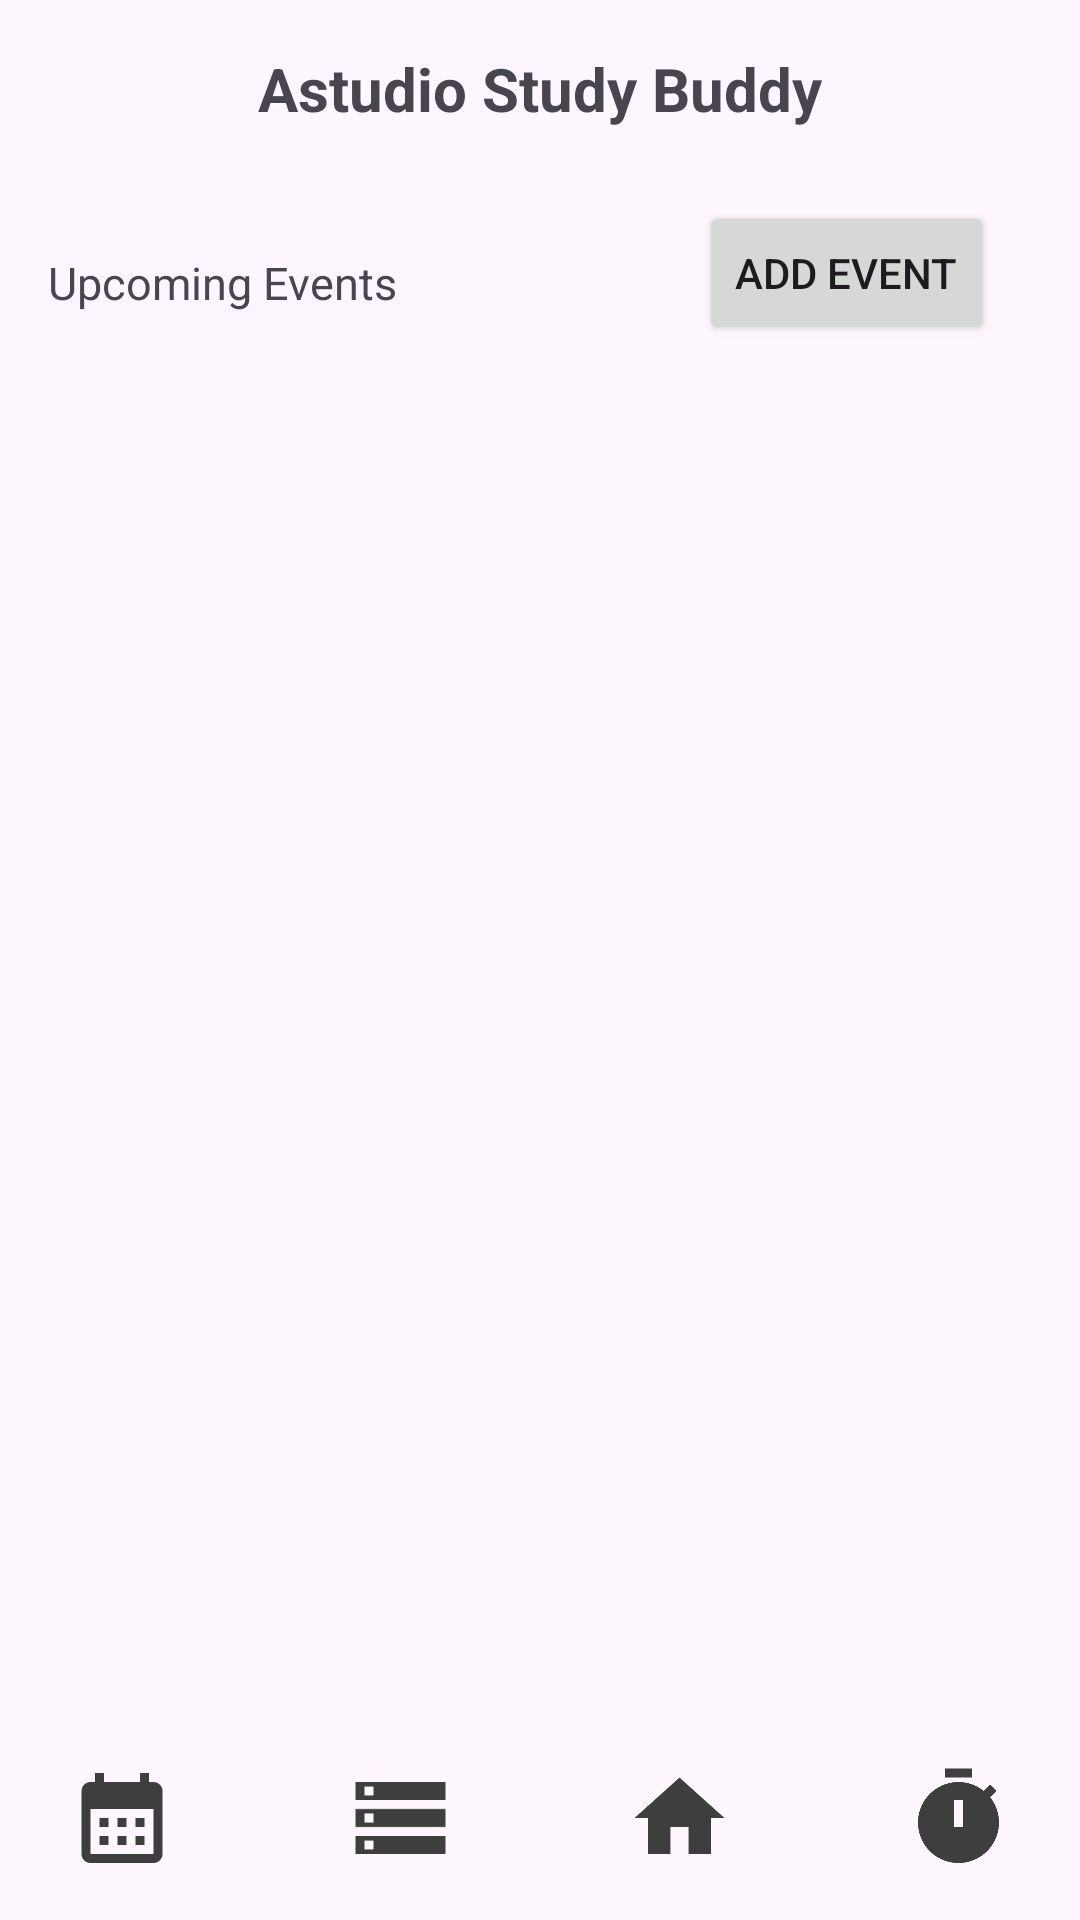

Icons on this 1080 × 1920 Android screen, each with the point to tap as (x,y):
calendar: (122,1818)
home: (679,1815)
storage: (400,1818)
timer: (958,1815)
